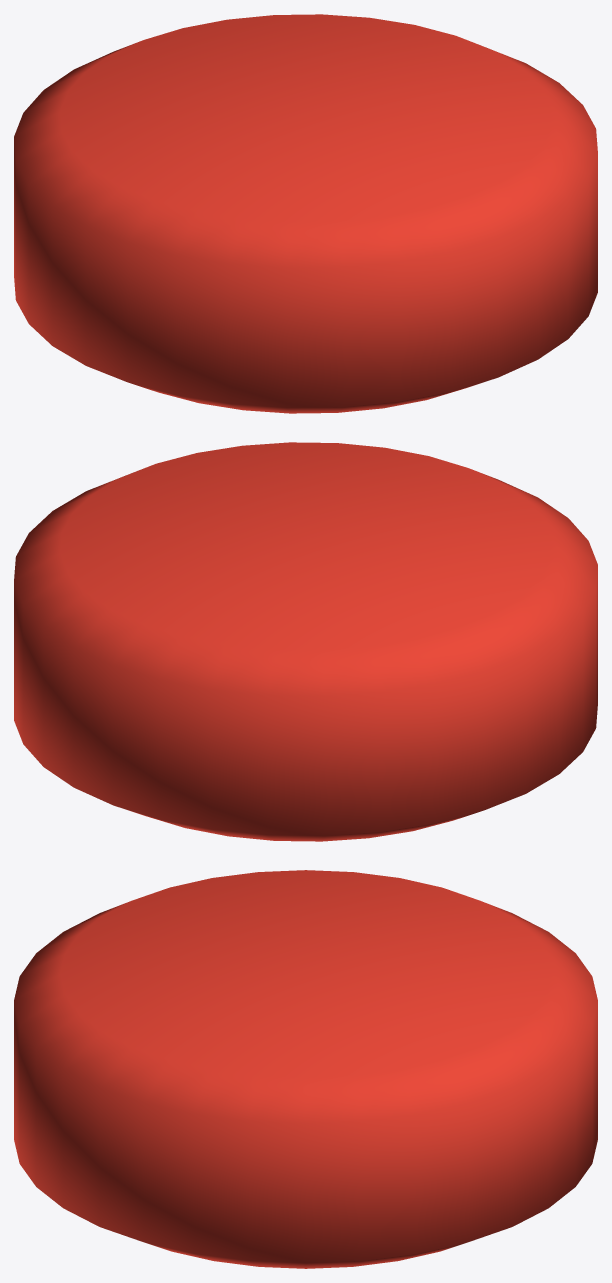
The model's file is Patty.fbx.
The picture shows the model from 3 angles, top to bottom: view 1: azimuth 30°, elevation 25°; view 2: azimuth 150°, elevation 25°; view 3: azimuth 270°, elevation 25°; orthographic projection.
Visible parts, largest first — view 1: Patty; view 2: Patty; view 3: Patty.
Part boxes in pixels (left/top/right/bottom): Patty: left=14, top=14, right=597, bottom=413; Patty: left=14, top=442, right=597, bottom=841; Patty: left=14, top=870, right=597, bottom=1268.
Bounding box in the file's own units: 40.12 × 14.63 × 40.12.
